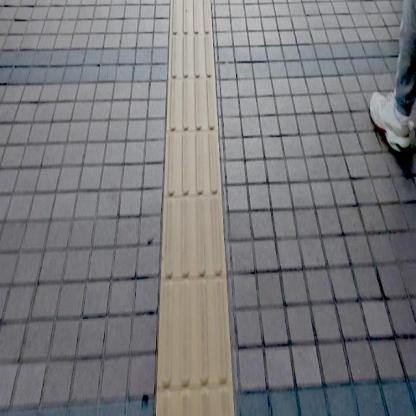podotacti: (154, 0, 236, 415)
